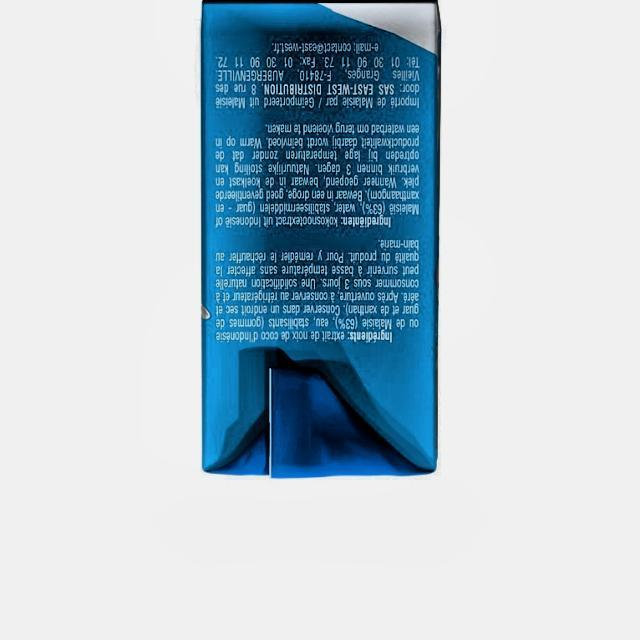cardboard: (201, 0, 442, 480)
